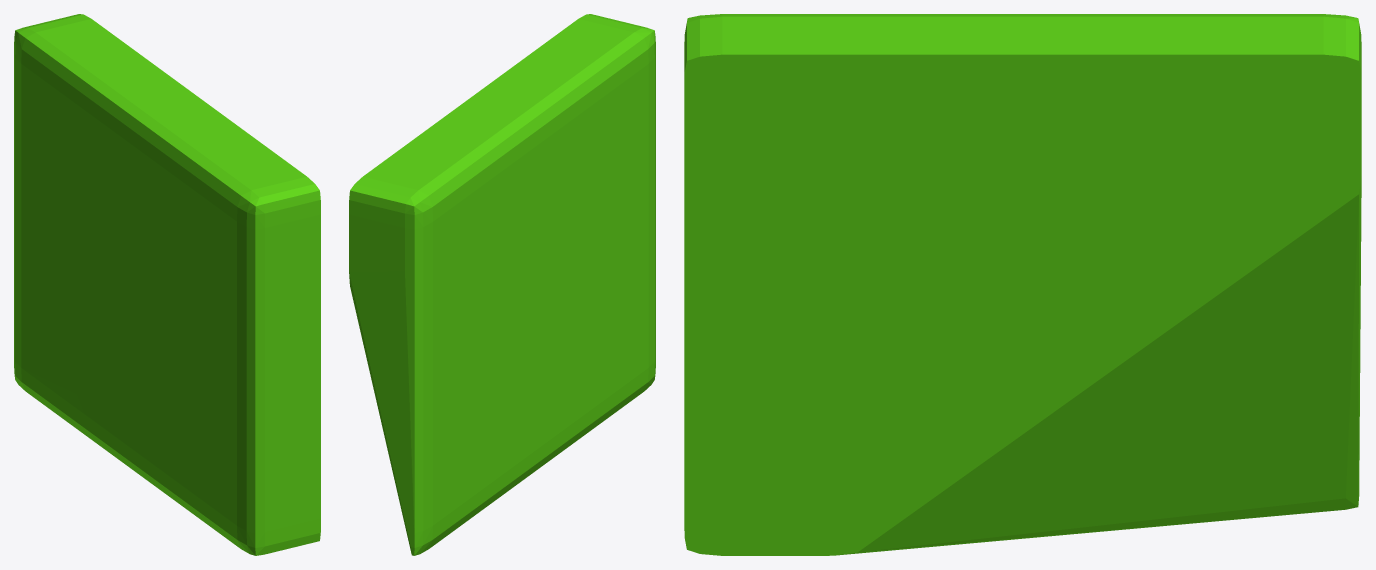
Rendered from left_hip_yaw_link_part_17.obj.
3 views of the same model, side by side, from view 1: azimuth 30°, elevation 25°; view 2: azimuth 150°, elevation 25°; view 3: azimuth 270°, elevation 25° (orthographic). The views are drawn at different scales.
Bounding box in the file's own units: 0.00684 × 0.0334 × 0.0409.
